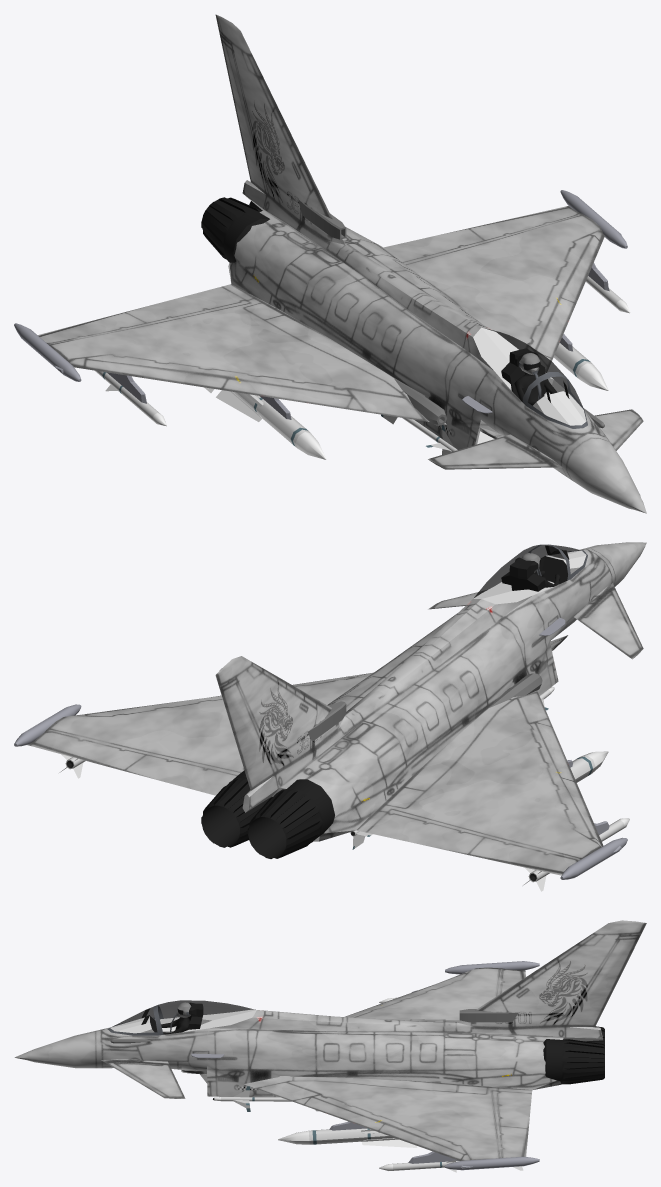
File: Eurofighter_003.fbx
3 views of the same model, one above another, from view 1: azimuth 30°, elevation 25°; view 2: azimuth 150°, elevation 25°; view 3: azimuth 270°, elevation 25° (orthographic). The views are drawn at different scales.
Visible parts, largest first — view 1: Eurofighter 3, Eurofighter 1 adds 2.002, AIM-54 Phoenix.002, Eurofighter 1 interior.002, Eurofighter 1 adds 1.002, Eurofighter 1 cockpit.002, AIM-120 Amraam.002, Pilot.002; view 2: Eurofighter 3, Eurofighter 1 adds 2.002, Eurofighter 1 interior.002, Eurofighter 1 adds 1.002, Eurofighter 1 cockpit.002, seat.002, AIM-120 Amraam.002, AIM-54 Phoenix.002; view 3: Eurofighter 3, Eurofighter 1 adds 2.002, AIM-54 Phoenix.002, Eurofighter 1 interior.002, Eurofighter 1 cockpit.002, Eurofighter 1 adds 1.002, AIM-120 Amraam.002, AIM-9 Sidewinder.002, Pilot.002.
Part boxes in pixels (box(x1,y1,x2,y2)): Eurofighter 3: box(38, 14, 646, 513); Eurofighter 1 adds 2.002: box(14, 190, 627, 419); AIM-54 Phoenix.002: box(204, 343, 608, 459); Eurofighter 1 interior.002: box(473, 327, 586, 425); Eurofighter 1 adds 1.002: box(298, 199, 604, 428); Eurofighter 1 cockpit.002: box(485, 328, 587, 428); AIM-120 Amraam.002: box(95, 276, 629, 426); Pilot.002: box(514, 353, 557, 405); Eurofighter 3: box(27, 542, 646, 875); Eurofighter 1 adds 2.002: box(14, 617, 627, 879); Eurofighter 1 interior.002: box(473, 545, 586, 604); Eurofighter 1 adds 1.002: box(307, 673, 542, 741); Eurofighter 1 cockpit.002: box(473, 544, 587, 598); seat.002: box(501, 557, 545, 591); AIM-120 Amraam.002: box(59, 754, 629, 891); AIM-54 Phoenix.002: box(570, 751, 608, 782); Eurofighter 3: box(14, 920, 646, 1160); Eurofighter 1 adds 2.002: box(191, 961, 604, 1170); AIM-54 Phoenix.002: box(278, 1128, 417, 1147); Eurofighter 1 interior.002: box(110, 1008, 256, 1033); Eurofighter 1 cockpit.002: box(107, 1000, 255, 1035); Eurofighter 1 adds 1.002: box(110, 1009, 518, 1043); AIM-120 Amraam.002: box(379, 997, 523, 1172); AIM-9 Sidewinder.002: box(213, 1086, 318, 1111); Pilot.002: box(155, 1002, 191, 1034).
Size of the model in its own units: 1183 by 484 by 1577.
17 materials, 1 textured.
